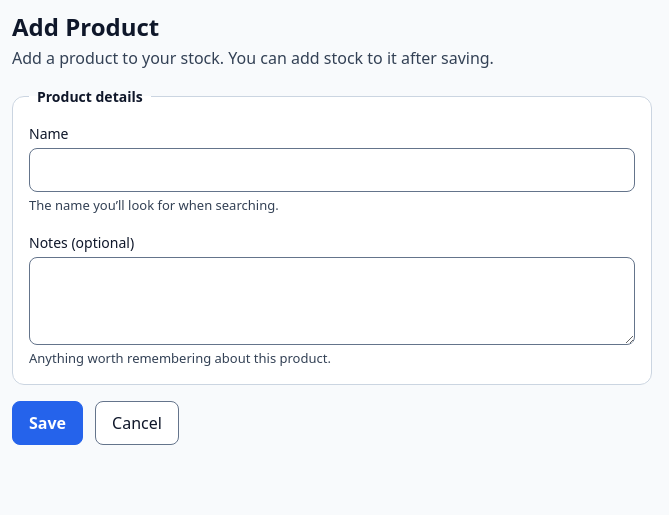
it: ProductFormPage › create › shows the domain validation message, linked to the name input, and stays on the form
Click the button "Save".
click(48, 423)  # box [12,401,83,445]
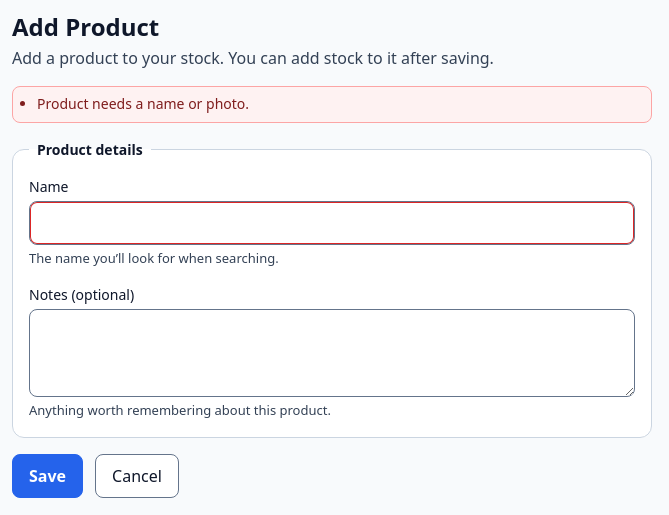
Expected: the message reads "Product needs a name or photo.", [37,94,249,113]
